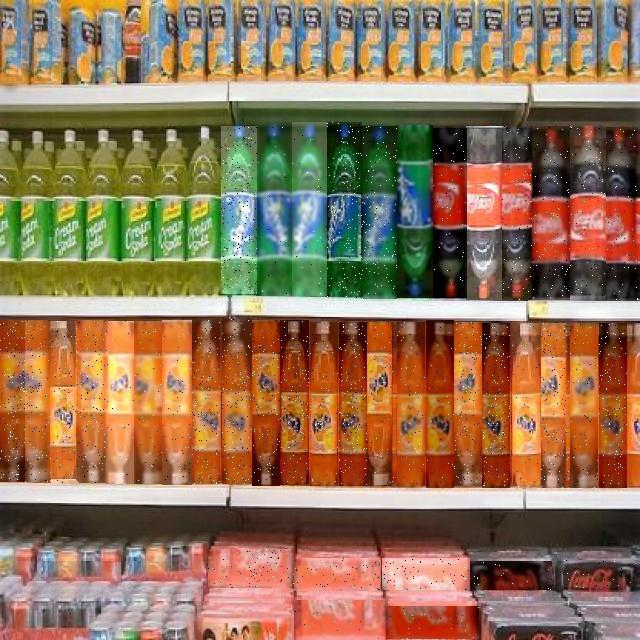Drinks: (569, 126, 606, 300), (396, 125, 433, 298), (535, 126, 571, 300), (466, 126, 502, 300), (291, 122, 327, 296), (256, 122, 292, 296), (361, 126, 397, 299), (327, 122, 362, 298), (221, 126, 257, 294), (606, 127, 640, 301), (502, 126, 536, 300), (433, 128, 467, 298), (512, 323, 542, 488), (222, 319, 252, 484), (162, 320, 192, 485), (78, 320, 108, 483), (280, 320, 309, 485), (133, 321, 162, 484), (426, 320, 454, 488), (252, 320, 280, 486), (482, 323, 510, 488), (542, 323, 570, 488), (571, 323, 599, 488), (599, 323, 627, 488), (192, 319, 220, 484), (339, 322, 367, 486), (368, 322, 396, 486), (397, 322, 425, 486), (455, 322, 483, 486), (310, 322, 338, 486), (106, 321, 134, 484), (52, 322, 80, 484), (24, 320, 52, 482), (0, 320, 25, 482), (294, 600, 388, 640), (209, 549, 295, 588), (386, 606, 479, 639), (295, 558, 381, 591), (382, 558, 470, 590), (564, 560, 640, 592), (471, 561, 553, 590)
